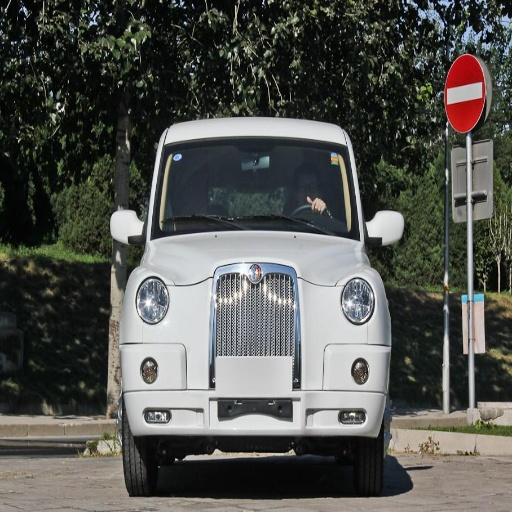front_bumper: (119, 278, 391, 435)
front_right_light: (135, 278, 168, 321)
hood: (149, 232, 360, 285)
left_mirror: (367, 210, 406, 250)
right_mirror: (110, 210, 144, 247)
